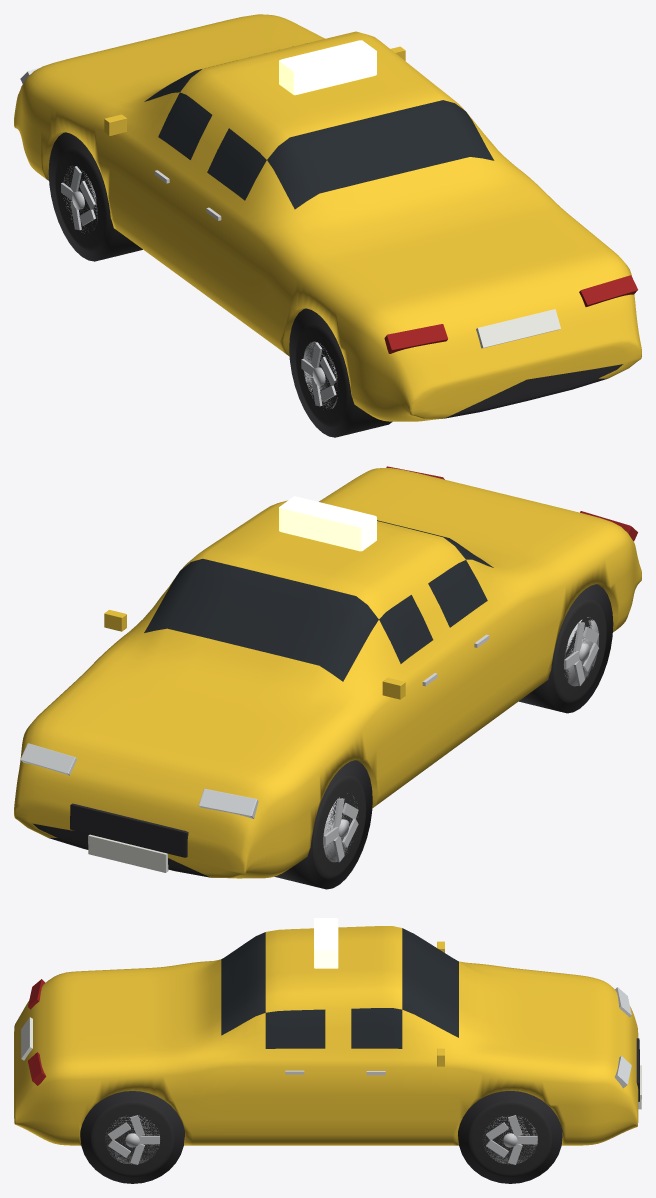
File: car_taxi.glb
3 renders of one model, top to bottom at view 1: azimuth 30°, elevation 25°; view 2: azimuth 150°, elevation 25°; view 3: azimuth 270°, elevation 25°, orthographic. The views are drawn at different scales.
Visible parts, largest first — view 1: car_taxi; view 2: car_taxi; view 3: car_taxi.
Part boxes in pixels (x1,y1,x2,y2): car_taxi: (14, 14, 641, 437); car_taxi: (14, 466, 641, 889); car_taxi: (14, 918, 641, 1183).
Size of the model in its own units: 1.98 by 1.64 by 4.63.
